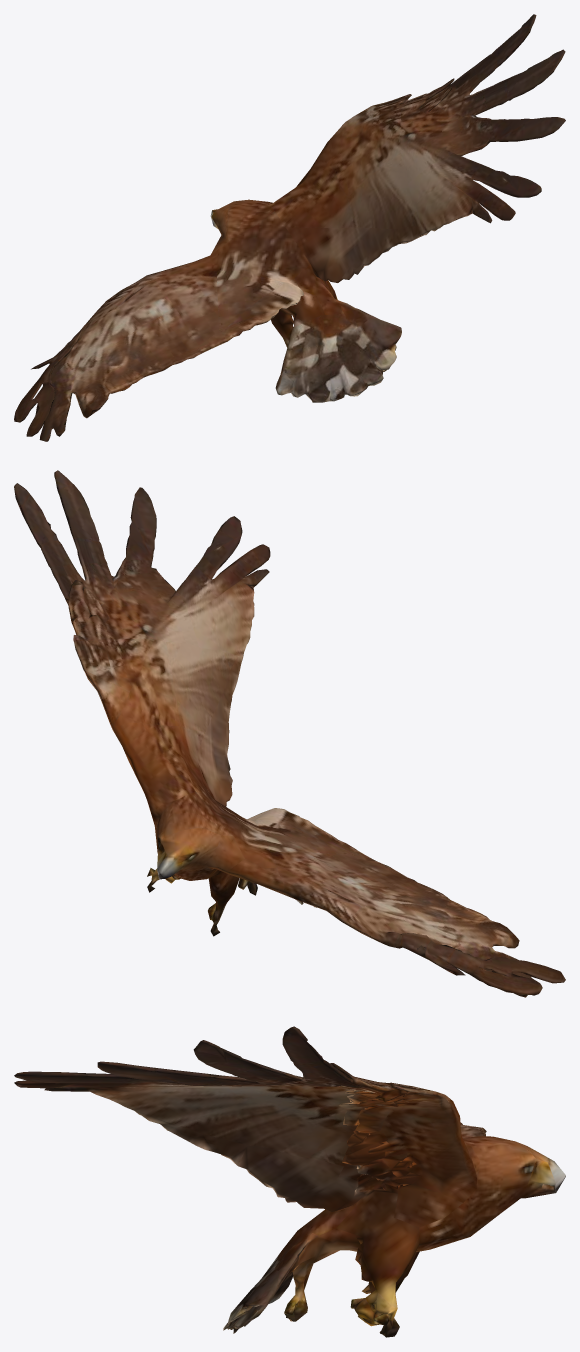
The model's file is bird.glb.
3 views of the same model, one above another, from view 1: azimuth 30°, elevation 25°; view 2: azimuth 150°, elevation 25°; view 3: azimuth 270°, elevation 25° (orthographic). The views are drawn at different scales.
Size of the model in its own units: 0.9989 by 0.6228 by 0.69.
1 material, 1 textured.
